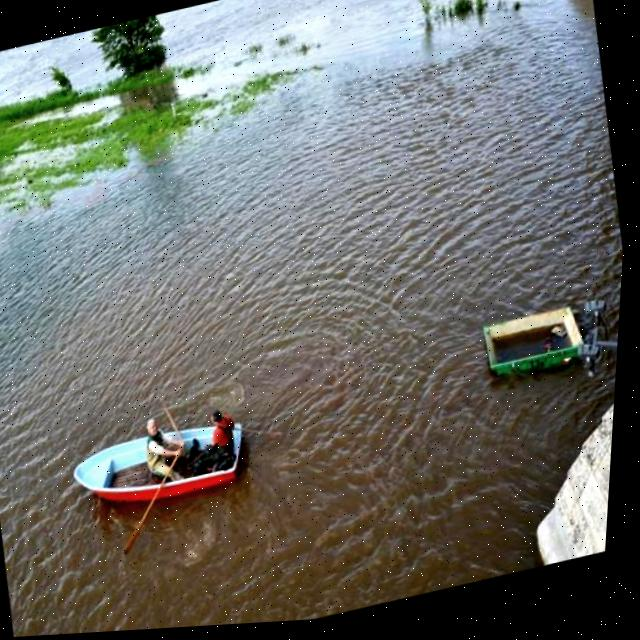civilian: (114, 393, 201, 498), (190, 393, 260, 469)
